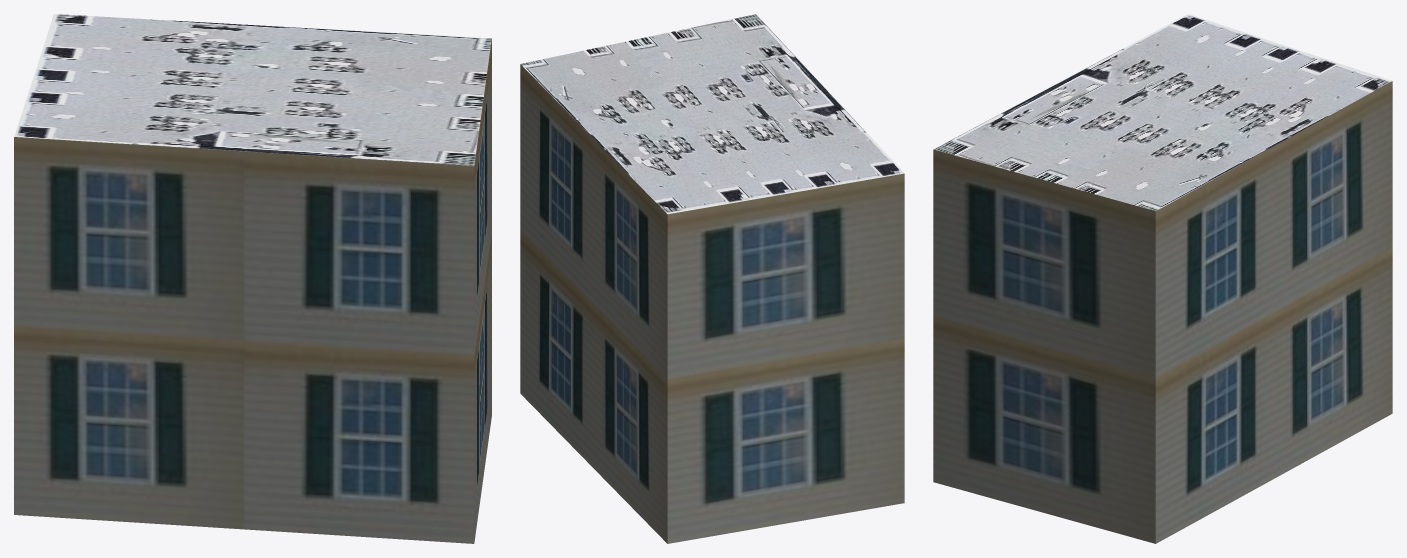
Rendered from ResTex__4516.fbx.
The picture shows the model from 3 angles, left to right: view 1: azimuth 30°, elevation 25°; view 2: azimuth 150°, elevation 25°; view 3: azimuth 270°, elevation 25°; orthographic projection. The views are drawn at different scales.
Parts seen in each view (by area): view 1: CityEngineMaterial_7_m, CityEngineMaterial_8_m; view 2: CityEngineMaterial_7_m, CityEngineMaterial_8_m; view 3: CityEngineMaterial_7_m, CityEngineMaterial_8_m.
Boxes of the visible parts, x1,y1,x2,y2 form: CityEngineMaterial_7_m: [14, 39, 491, 543]; CityEngineMaterial_8_m: [14, 14, 491, 165]; CityEngineMaterial_7_m: [520, 64, 904, 543]; CityEngineMaterial_8_m: [521, 14, 904, 214]; CityEngineMaterial_7_m: [933, 81, 1392, 543]; CityEngineMaterial_8_m: [934, 14, 1391, 211].
Size of the model in its own units: 7.63 by 6 by 7.5.
2 materials, 2 textured.
